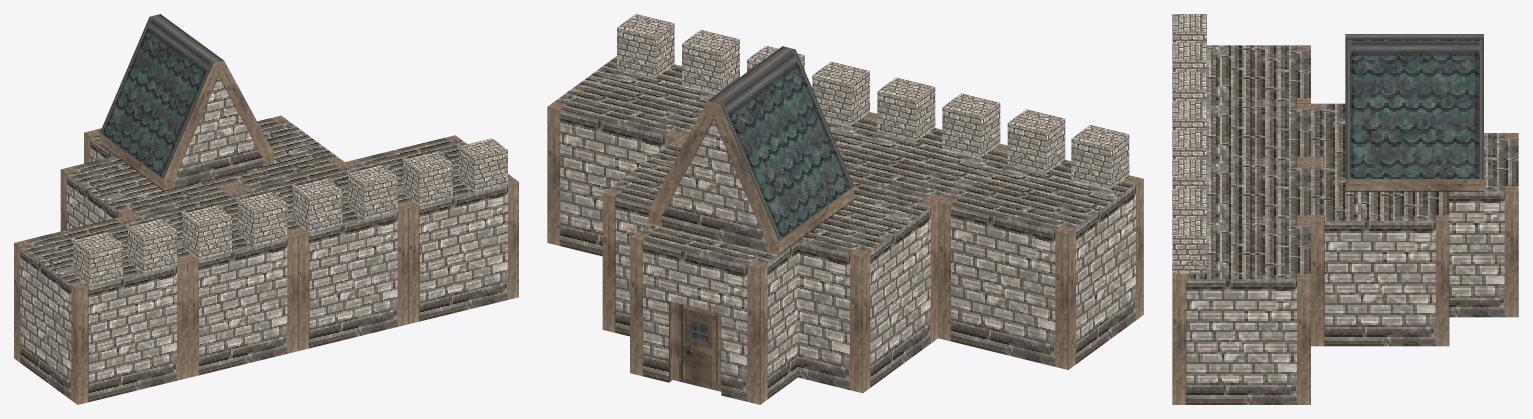
Rendered from guard_house_wall.glb.
3 renders of one model, left to right at view 1: azimuth 30°, elevation 25°; view 2: azimuth 150°, elevation 25°; view 3: azimuth 270°, elevation 25°, orthographic. The views are drawn at different scales.
Visible parts, largest first — view 1: Wall_0, GuardHouse_Roof, Wall_2, Wall_3, Wall_1, GuardHouse_Left, GuardHouse_Right, Merlon_7, Merlon_3, Merlon_4, Merlon_5, Merlon_2 (+4 smaller); view 2: Wall_0, GuardHouse_Roof, GuardHouse_Back, GuardHouse_Left, Wall_3, Wall_1, GuardHouse_Right, Merlon_0, Merlon_1, Merlon_2, Merlon_7, Merlon_6 (+3 smaller); view 3: Wall_3, GuardHouse_Right, GuardHouse_Roof, GuardHouse_Back, Wall_1, Wall_0, Wall_2, GuardHouse_Left, Merlon_6, Merlon_0, Merlon_1, Merlon_2 (+4 smaller).
Boxes of the visible parts, x1,y1,x2,y2 form: Wall_0: (14, 216, 187, 404); GuardHouse_Roof: (100, 14, 273, 190); Wall_2: (235, 162, 408, 350); Wall_3: (345, 135, 518, 323); Wall_1: (125, 189, 298, 377); GuardHouse_Left: (60, 156, 233, 231); GuardHouse_Right: (219, 115, 344, 188); Merlon_7: (73, 232, 122, 286); Merlon_3: (293, 178, 342, 232); Merlon_4: (348, 165, 397, 219); Merlon_5: (403, 151, 452, 205); Merlon_2: (238, 192, 287, 246); Wall_0: (938, 151, 1143, 369); GuardHouse_Roof: (648, 46, 854, 254); GuardHouse_Back: (630, 223, 797, 404); GuardHouse_Left: (798, 181, 937, 393); Wall_3: (547, 56, 717, 256); Wall_1: (838, 120, 1007, 201); GuardHouse_Right: (602, 138, 685, 336); Merlon_0: (1007, 109, 1065, 173); Merlon_1: (942, 93, 1000, 157); Merlon_2: (877, 77, 935, 141); Merlon_7: (1071, 125, 1129, 188); Merlon_6: (617, 14, 674, 77); Wall_3: (1172, 221, 1310, 404); GuardHouse_Right: (1311, 162, 1449, 346); GuardHouse_Roof: (1345, 34, 1483, 191); GuardHouse_Back: (1449, 133, 1518, 317); Wall_1: (1207, 103, 1310, 162); Wall_0: (1207, 45, 1310, 103); Wall_2: (1207, 162, 1310, 220); GuardHouse_Left: (1311, 103, 1345, 162); Merlon_6: (1172, 218, 1206, 273); Merlon_0: (1172, 42, 1206, 71); Merlon_1: (1172, 72, 1206, 101); Merlon_2: (1172, 101, 1206, 130).
Size of what is drawn, in the model's own units: 8 by 4 by 5.
39 materials, 39 textured.
